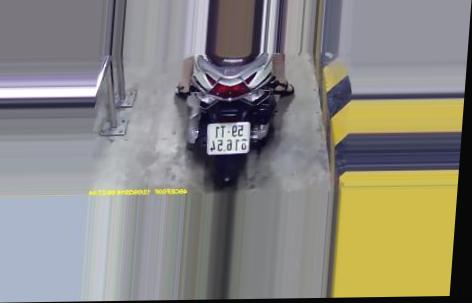License_Plate: (203, 119, 256, 159)
